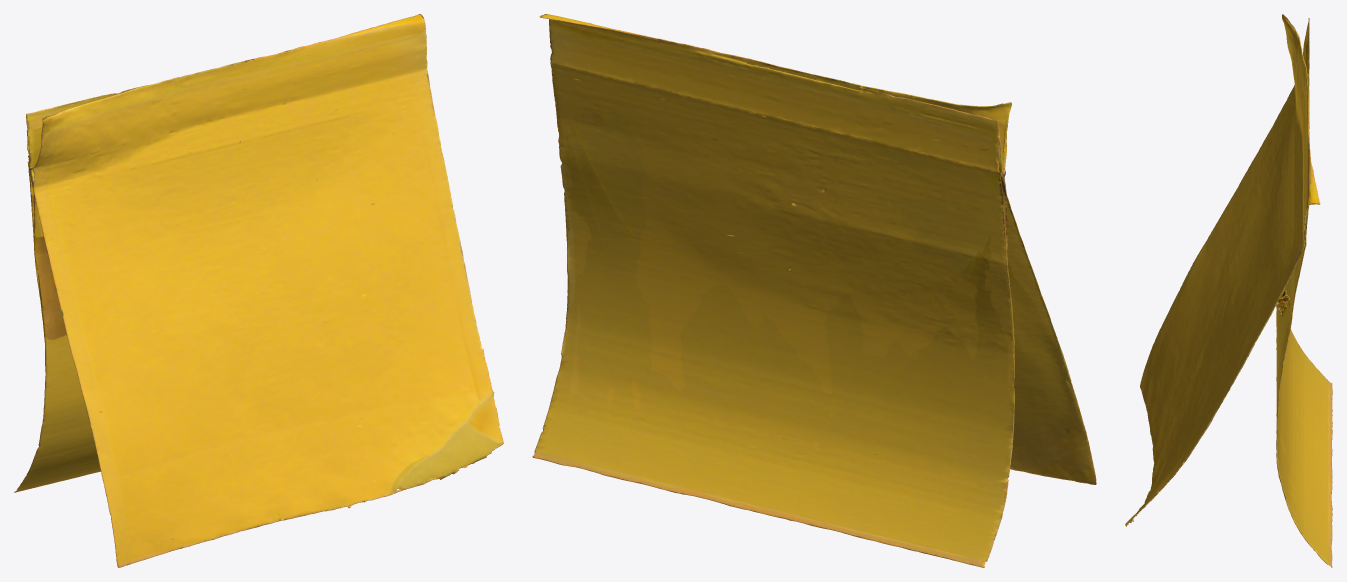
The model's file is Sticky_Note__0918115712_texture.fbx.
3 views of the same model, side by side, from view 1: azimuth 30°, elevation 25°; view 2: azimuth 150°, elevation 25°; view 3: azimuth 270°, elevation 25° (orthographic). The views are drawn at different scales.
Visible parts, largest first — view 1: Mesh1.0; view 2: Mesh1.0; view 3: Mesh1.0.
Boxes of the visible parts, <box> form: Mesh1.0: <box>14,14,503,567</box>; Mesh1.0: <box>532,14,1096,567</box>; Mesh1.0: <box>1125,14,1332,567</box>.
Bounding box in the file's own units: 190 × 179 × 90.29.
1 material, 1 textured.
